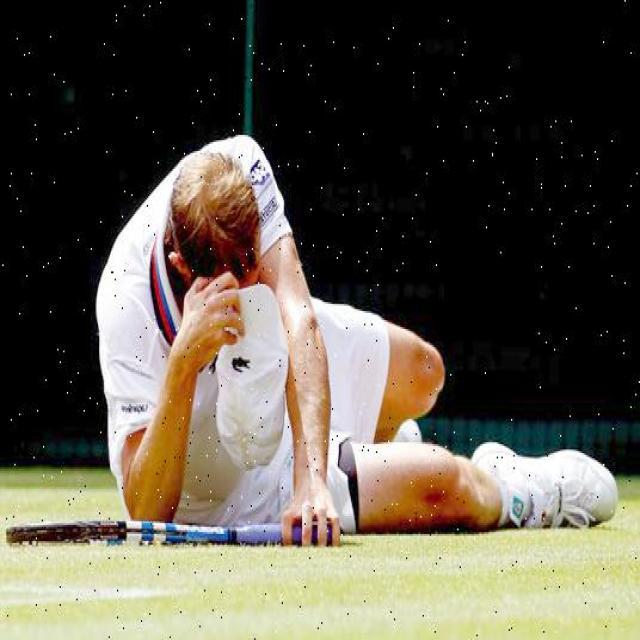fall: (106, 142, 556, 522)
